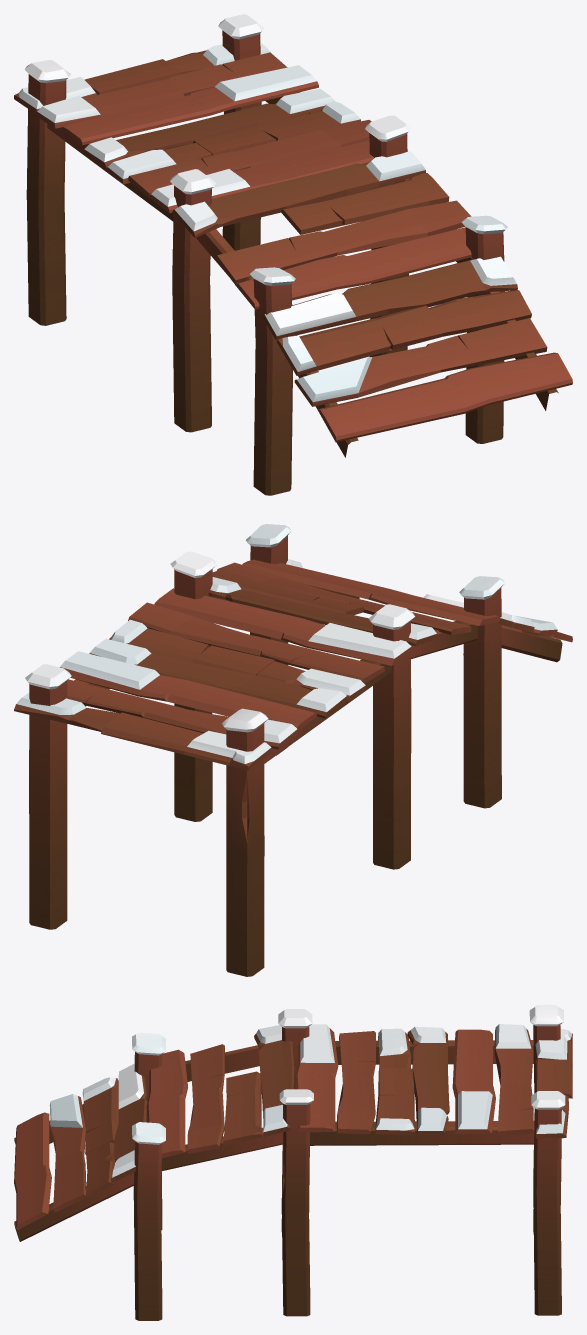
3 views of the same model, one above another, from view 1: azimuth 30°, elevation 25°; view 2: azimuth 150°, elevation 25°; view 3: azimuth 270°, elevation 25° (orthographic). The views are drawn at different scales.
Parts seen in each view (by area): view 1: SnowyPierStart; view 2: SnowyPierStart; view 3: SnowyPierStart.
Part boxes in pixels (<box>): SnowyPierStart: <box>14,14,572,495</box>; SnowyPierStart: <box>14,524,572,976</box>; SnowyPierStart: <box>14,1005,572,1320</box>.
Bounding box in the file's own units: 2.51 × 2.47 × 5.71.
Materials: 1 (1 with a texture image).
